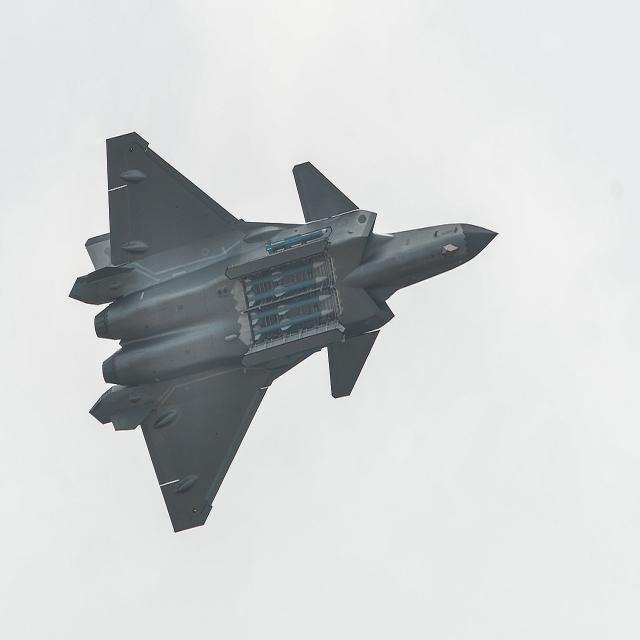MIL_Plane: (68, 131, 499, 534)
